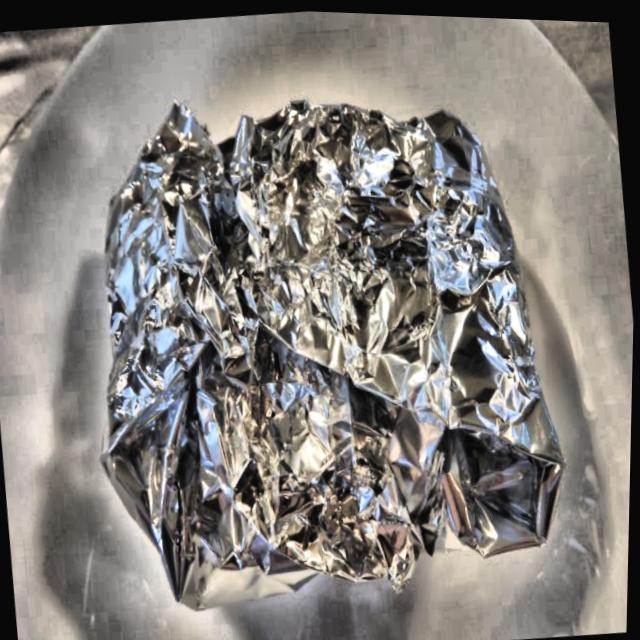Foil: (53, 48, 597, 628)
